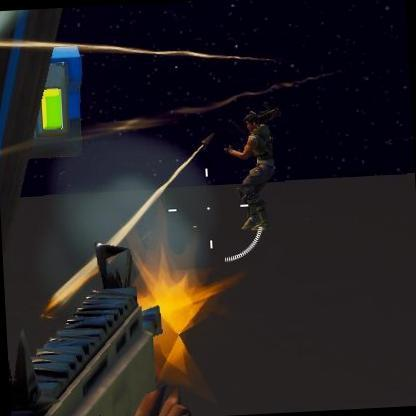person: (222, 107, 279, 232)
